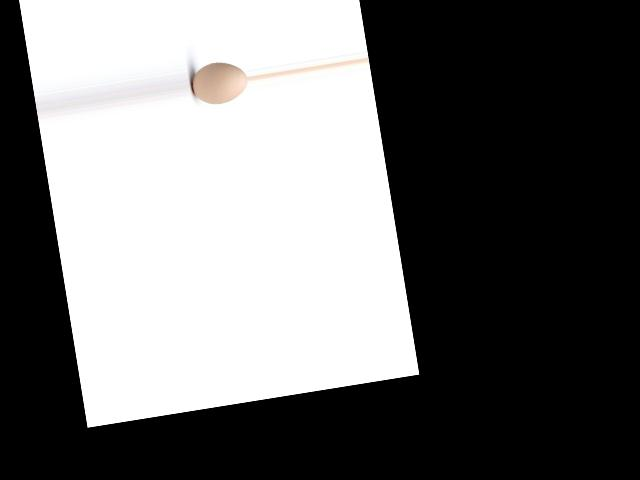egg: (188, 58, 249, 107)
